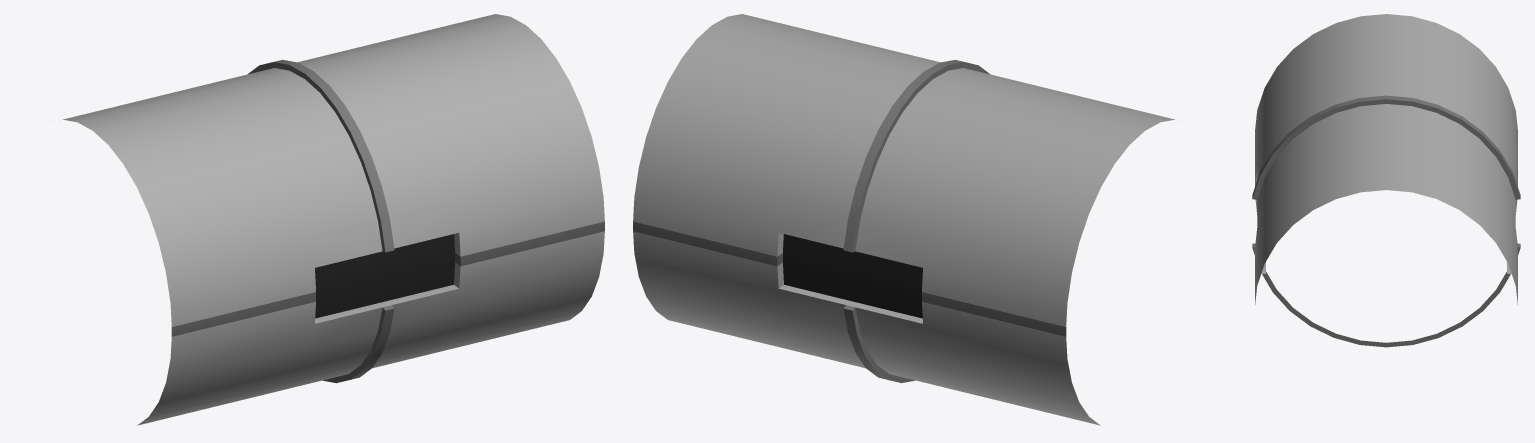
The model's file is Connector.glb.
3 renders of one model, left to right at view 1: azimuth 30°, elevation 25°; view 2: azimuth 150°, elevation 25°; view 3: azimuth 270°, elevation 25°, orthographic. The views are drawn at different scales.
Parts seen in each view (by area): view 1: Connector; view 2: Connector; view 3: Connector.
Boxes of the visible parts, x1,y1,x2,y2 form: Connector: (63,14,604,425); Connector: (633,14,1174,425); Connector: (1252,14,1520,347).
Bounding box in the file's own units: 3.37 × 2.21 × 2.17.
1 material, 1 textured.
